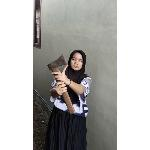Kapak: (46, 54, 77, 116)
